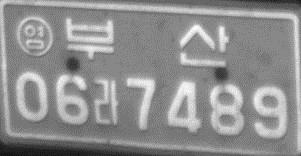0: (14, 71, 49, 123)
4: (166, 81, 201, 132)
6: (55, 73, 89, 126)
7: (124, 76, 156, 129)
8: (209, 82, 245, 136)
9: (252, 85, 287, 140)
라: (91, 77, 120, 125)
부산_D: (65, 17, 229, 67)
영: (16, 15, 54, 57)
